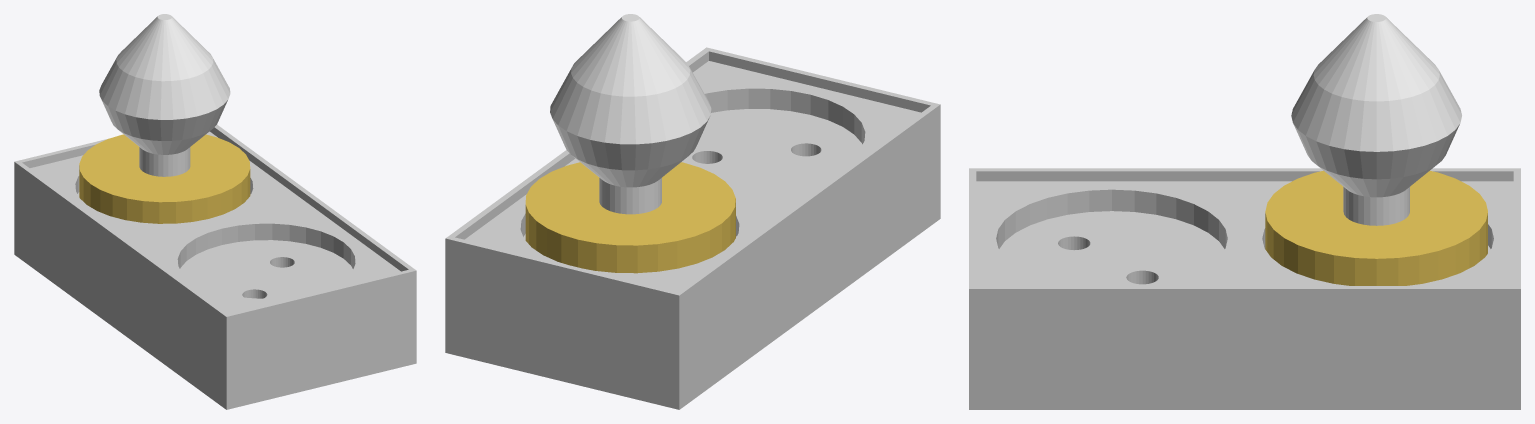
File: SaklarLight.fbx
The picture shows the model from 3 angles, left to right: view 1: azimuth 30°, elevation 25°; view 2: azimuth 150°, elevation 25°; view 3: azimuth 270°, elevation 25°; orthographic projection. The views are drawn at different scales.
Visible parts, largest first — view 1: Cube, Cylinder.001, Cylinder; view 2: Cube, Cylinder.001, Cylinder; view 3: Cube, Cylinder.001, Cylinder.
Part boxes in pixels (x1=…): Cube: x1=14, y1=124, x2=416, y2=409; Cylinder.001: x1=99, y1=14, x2=230, y2=176; Cylinder: x1=79, y1=134, x2=250, y2=223; Cube: x1=445, y1=47, x2=940, y2=409; Cylinder.001: x1=550, y1=14, x2=711, y2=214; Cylinder: x1=525, y1=162, x2=735, y2=273; Cube: x1=969, y1=168, x2=1520, y2=409; Cylinder.001: x1=1291, y1=14, x2=1461, y2=225; Cylinder: x1=1265, y1=170, x2=1487, y2=285.
Bounding box in the file's own units: 200 × 256 × 387.
